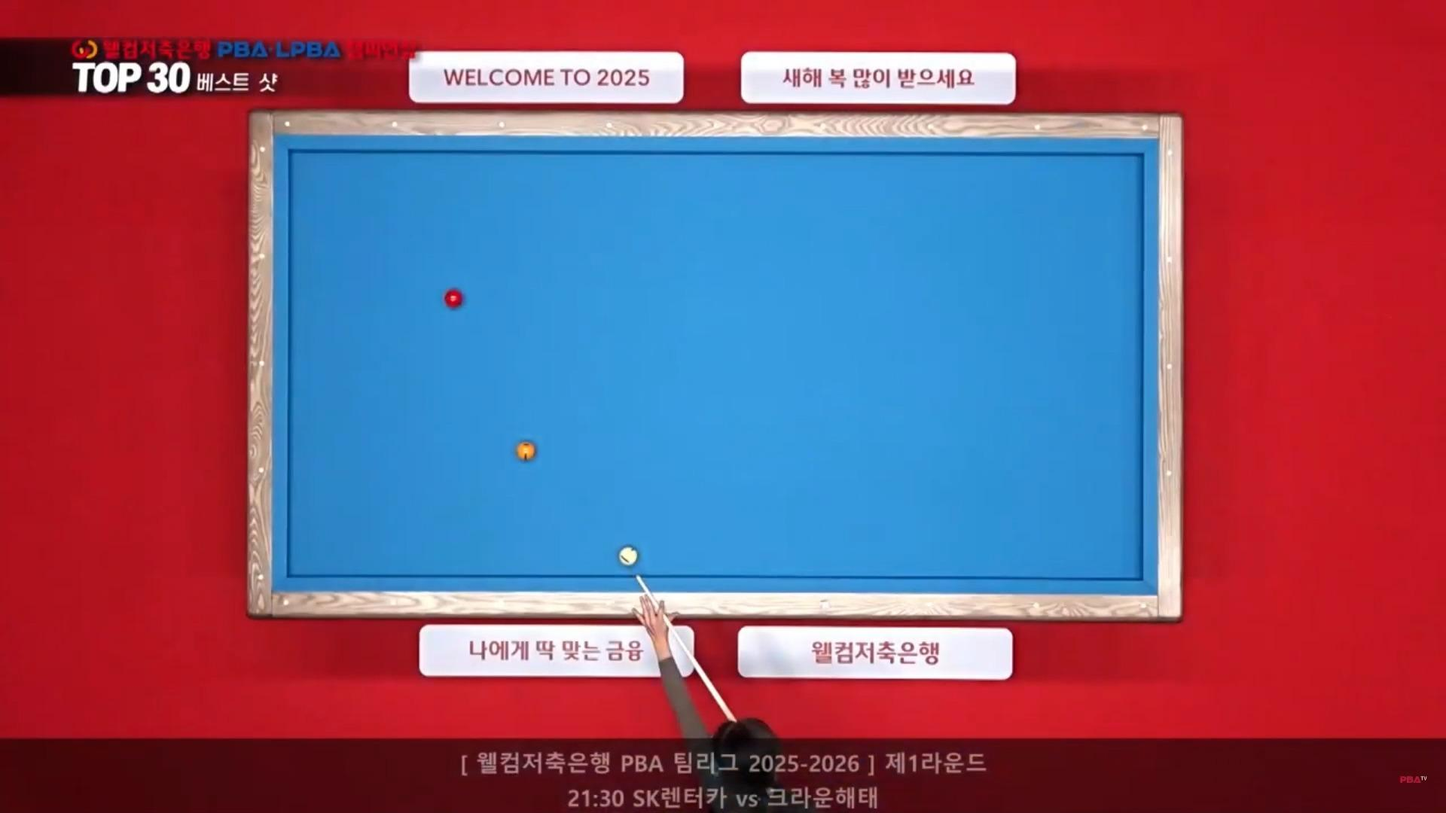Red: (444, 291, 468, 310)
White: (619, 546, 642, 565)
billiard-ball-Yellow: (511, 437, 534, 459)
